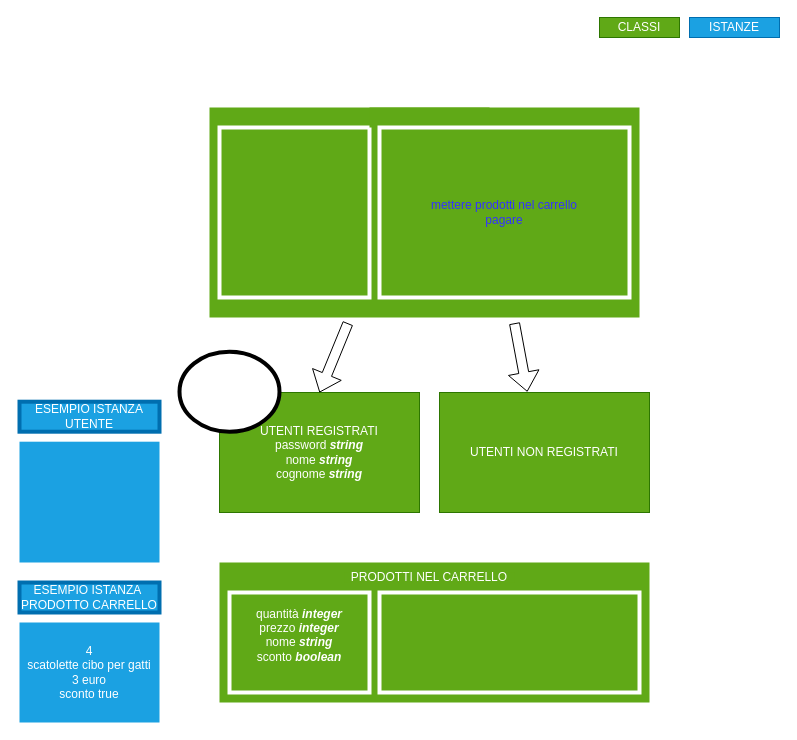
Image size: 797x740. Some labels were removed from this diagram. The box of each missing label's shape, as (x1, y1, x2, y2) in pixels:
FORM??: (177, 349, 281, 433)
id = 4 Paolo Rossi password carta scaduta(false): (19, 441, 159, 562)
ID cookies??? carta di credito boolean: (217, 125, 371, 299)
mostrare prodotti nel carrello: (377, 590, 641, 694)
UTENTI: (369, 107, 489, 127)
